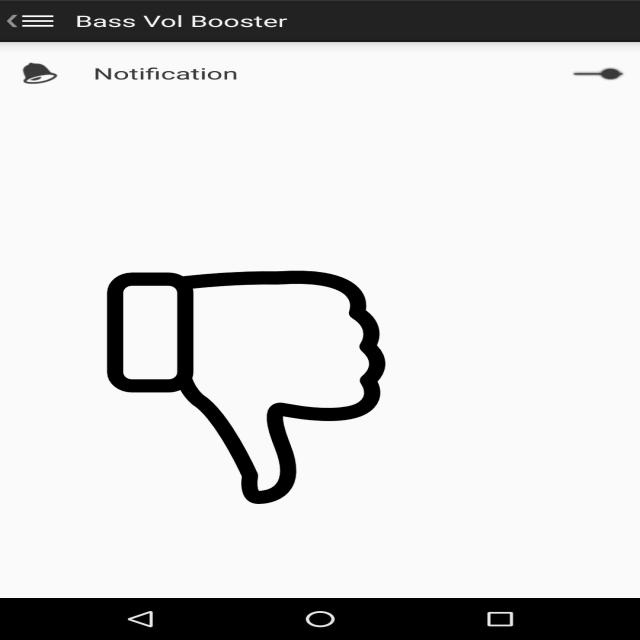obstruction: (103, 271, 389, 504)
